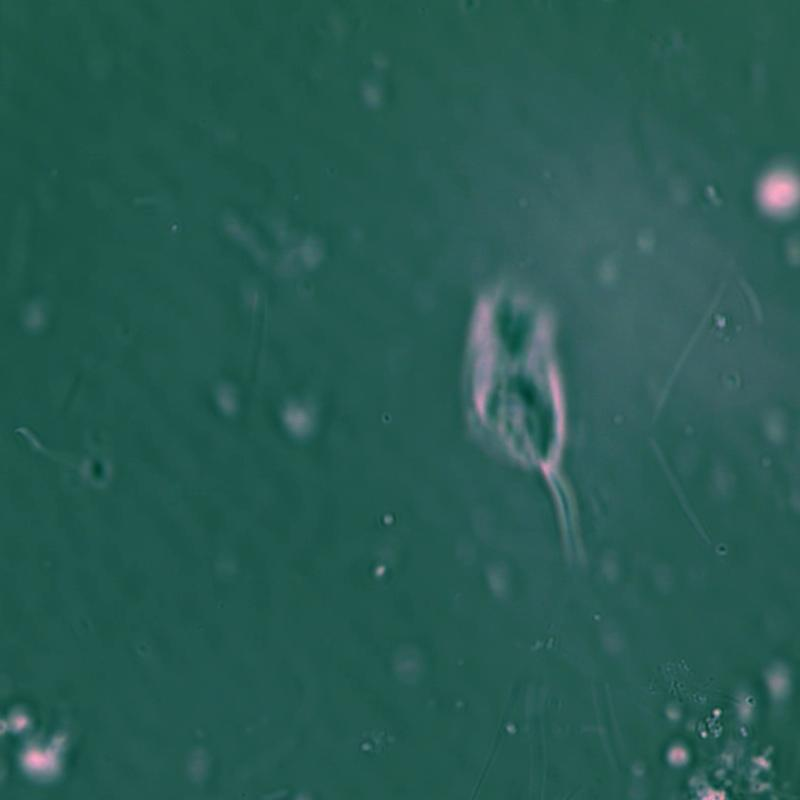depth:80: (443, 261, 642, 583)
